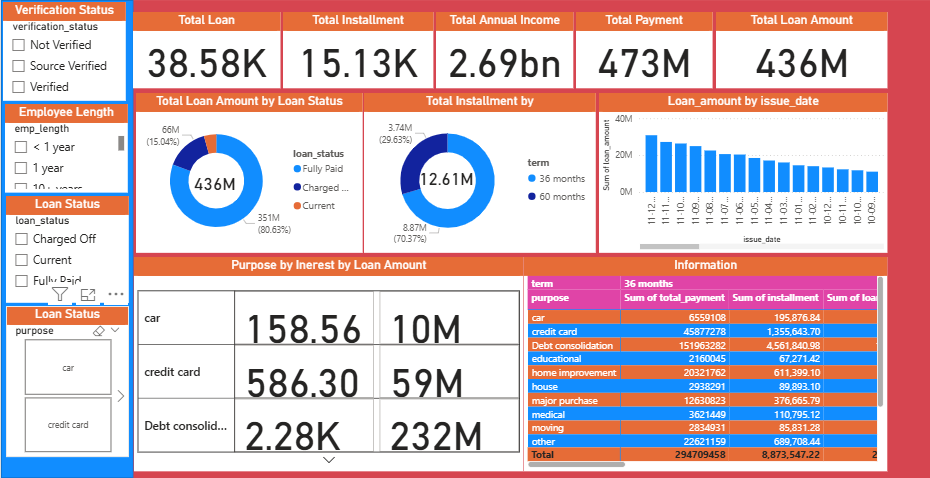

This screenshot's page, from the dashboard's own definition file:
{"tool":"powerbi","page":{"name":"Page 1","canvas":[1280,720],"ordinal":0},"visuals":[{"type":"textbox","box":[0,0,1279.8,62.4],"z":0},{"type":"shape","box":[0,62.2,182.4,658.1],"z":1000},{"type":"card","title":"Total Loan","fields":{"Values":["Count(financial_loan (1).id)"]},"box":[181.1,78.4,202.7,105.4],"z":2000},{"type":"card","title":"Total Installment  ","fields":{"Values":["Count(financial_loan (1).installment)"]},"box":[387.8,78.4,206.8,105.4],"z":3000},{"type":"card","title":"Total Annual Income ","fields":{"Values":["Sum(financial_loan (1).annual_income)"]},"box":[598.6,78.4,189.2,105.4],"z":4000},{"type":"card","title":"Total Payment","fields":{"Values":["Sum(financial_loan (1).total_payment)"]},"box":[791.9,78.4,187.8,105.4],"z":5000},{"type":"card","title":"Total Loan Amount","fields":{"Values":["Sum(financial_loan (1).loan_amount)"]},"box":[983.8,78.4,236.5,105.4],"z":6000},{"type":"donutChart","title":"Total Loan Amount by Loan Status","fields":{"Y":["Sum(financial_loan (1).loan_amount)"],"Category":["financial_loan (1).loan_status"]},"box":[185.1,190.5,312.2,220.3],"z":7000},{"type":"card","fields":{"Values":["Sum(financial_loan (1).loan_amount)"]},"box":[255.4,294.6,77,39.2],"z":8000},{"type":"donutChart","title":"Total Installment by ","fields":{"Y":["Sum(financial_loan (1).installment)"],"Category":["financial_loan (1).term"]},"box":[500,190.5,318.9,220.3],"z":9000},{"type":"card","fields":{"Values":["Sum(financial_loan (1).installment)"]},"box":[566.2,287.8,94.6,39.2],"z":10000},{"type":"clusteredColumnChart","title":"Loan_amount by issue_date","fields":{"Y":["Sum(financial_loan (1).loan_amount)"],"Category":["financial_loan (1).issue_date"]},"box":[823,190.5,397.3,220.3],"z":11000},{"type":"cardVisual","title":"Purpose by Inerest by Loan Amount","fields":{"Rows":["financial_loan (1).purpose"],"Data":["Sum(financial_loan (1).int_rate)","Sum(financial_loan (1).loan_amount)"]},"box":[182.4,416.2,536.5,294.6],"z":12000},{"type":"pivotTable","title":"Information","fields":{"Rows":["financial_loan (1).purpose"],"Values":["Sum(financial_loan (1).total_payment)","Sum(financial_loan (1).installment)","Sum(financial_loan (1).loan_amount)"],"Columns":["financial_loan (1).term"]},"box":[720.3,416.2,500,294.6],"z":13000},{"type":"slicer","title":"Verification Status","fields":{"Values":["financial_loan (1).verification_status"]},"box":[2.7,64.9,168.9,136.5],"z":14000},{"type":"slicer","title":"Employee Length","fields":{"Values":["financial_loan (1).emp_length"]},"box":[5.4,205.4,168.9,121.6],"z":15000},{"type":"slicer","title":"Loan Status","fields":{"Values":["financial_loan (1).loan_status"]},"box":[6.8,331.1,168.9,147.3],"z":16000},{"type":"slicer","title":"Loan Status","fields":{"Values":["financial_loan (1).purpose"]},"box":[6.8,482.4,168.9,208.1],"z":17000}]}

Visuals, with their boxes on the page's 1280x720 design canvas (x1, y1, x2, y2). These are canvas units, not pixel positions in the 930x478 screenshot, which may show the page scaled, cropped or inside an application window:
textbox: pyautogui.locateOnScreen(0, 0, 1280, 62)
shape: pyautogui.locateOnScreen(0, 62, 182, 720)
"Total Loan" card: pyautogui.locateOnScreen(181, 78, 384, 184)
"Total Installment  " card: pyautogui.locateOnScreen(388, 78, 595, 184)
"Total Annual Income " card: pyautogui.locateOnScreen(599, 78, 788, 184)
"Total Payment" card: pyautogui.locateOnScreen(792, 78, 980, 184)
"Total Loan Amount" card: pyautogui.locateOnScreen(984, 78, 1220, 184)
"Total Loan Amount by Loan Status" donutChart: pyautogui.locateOnScreen(185, 190, 497, 411)
card - Sum(financial_loan (1).loan_amount): pyautogui.locateOnScreen(255, 295, 332, 334)
"Total Installment by " donutChart: pyautogui.locateOnScreen(500, 190, 819, 411)
card - Sum(financial_loan (1).installment): pyautogui.locateOnScreen(566, 288, 661, 327)
"Loan_amount by issue_date" clusteredColumnChart: pyautogui.locateOnScreen(823, 190, 1220, 411)
"Purpose by Inerest by Loan Amount" cardVisual: pyautogui.locateOnScreen(182, 416, 719, 711)
"Information" pivotTable: pyautogui.locateOnScreen(720, 416, 1220, 711)
"Verification Status" slicer: pyautogui.locateOnScreen(3, 65, 172, 201)
"Employee Length" slicer: pyautogui.locateOnScreen(5, 205, 174, 327)
"Loan Status" slicer: pyautogui.locateOnScreen(7, 331, 176, 478)
"Loan Status" slicer: pyautogui.locateOnScreen(7, 482, 176, 690)
